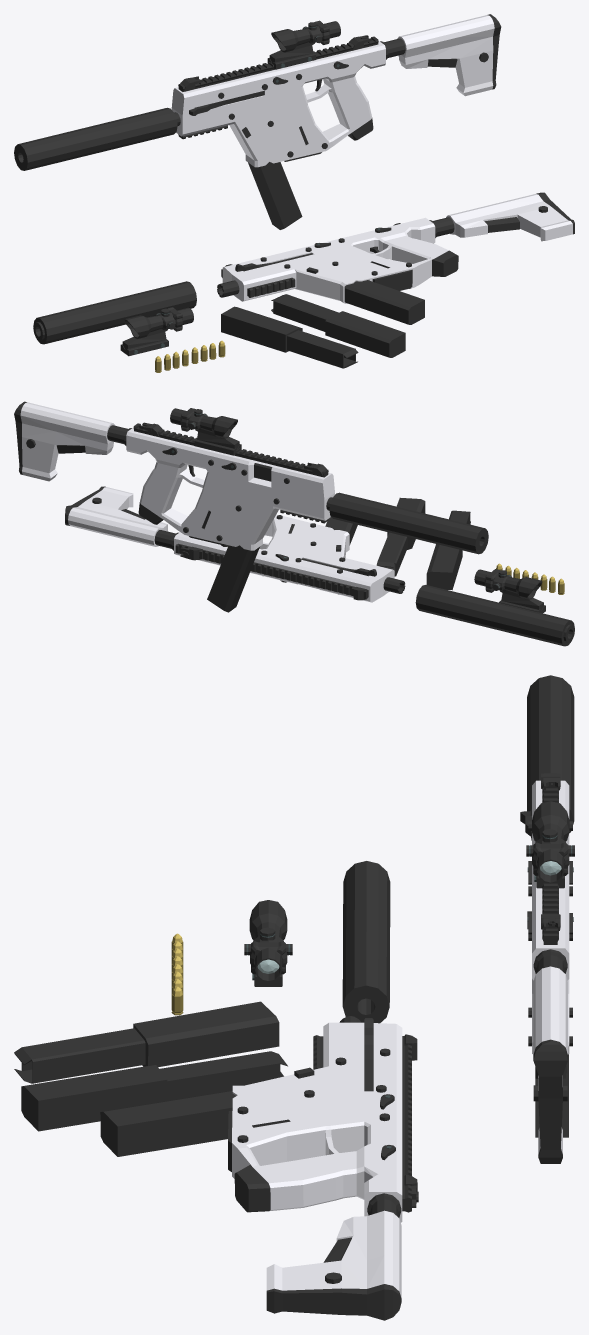
File: Kriss Vector.fbx
3 renders of one model, top to bottom at view 1: azimuth 30°, elevation 25°; view 2: azimuth 150°, elevation 25°; view 3: azimuth 270°, elevation 25°, orthographic. The views are drawn at different scales.
Visible parts, largest first — view 1: Box001, Box011, Cylinder003, Tube001, Tube003, Cylinder006, Box018, Box017, Box013, Cylinder009, Cylinder001, Box007; view 2: Box001, Box011, Cylinder003, Tube001, Tube003, Cylinder006, Box007, Cylinder001, Cylinder009, Box018, Box017, Box013; view 3: Box011, Box018, Cylinder006, Box017, Tube003, Box013, Cylinder003, Tube001, Box001, Cylinder009, Cylinder001.
Boxes of the visible parts, x1,y1,x2,y2 form: Box001: (171,36,405,167); Box011: (221,217,458,303); Cylinder003: (397,14,501,96); Tube001: (14,107,177,170); Tube003: (33,281,196,344); Cylinder006: (446,192,574,241); Box018: (221,306,358,368); Box017: (271,294,405,357); Box013: (344,280,424,324); Cylinder009: (120,307,193,356); Cylinder001: (267,20,340,69); Box007: (248,162,302,229); Box001: (107,423,334,550); Box011: (154,515,394,602); Cylinder003: (14,401,115,481); Tube001: (329,492,488,554); Tube003: (415,585,574,646); Cylinder006: (65,486,167,546); Box007: (207,545,259,612); Cylinder001: (170,408,241,455); Cylinder009: (474,569,545,613); Box018: (426,510,470,590); Box017: (376,497,425,576); Box013: (325,517,357,545); Box011: (228,1022,417,1222); Box018: (14,1001,279,1083); Cylinder006: (266,1210,401,1320); Box017: (21,1051,287,1131); Tube003: (342,861,390,1023); Box013: (100,1090,235,1156); Cylinder003: (533,966,567,1163); Tube001: (527,675,574,832); Box001: (528,773,572,1078); Cylinder009: (244,900,292,986); Cylinder001: (526,801,574,888).
Bounding box in the file's own units: 272 × 103 × 151.
7 materials, 7 textured.
